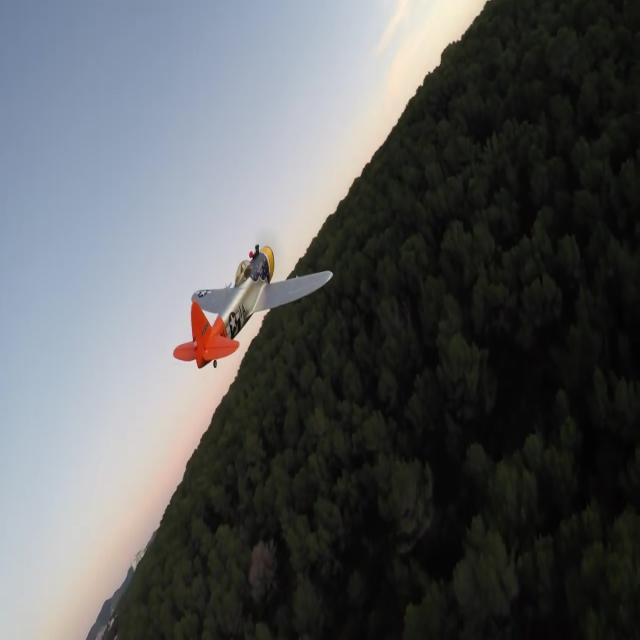iha: (173, 242, 333, 371)
